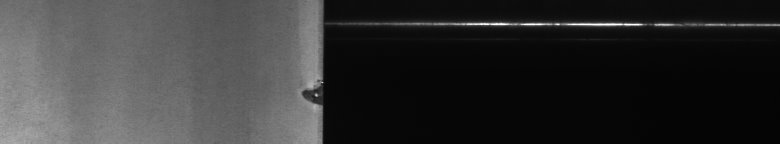hb: (296, 80, 312, 109)
